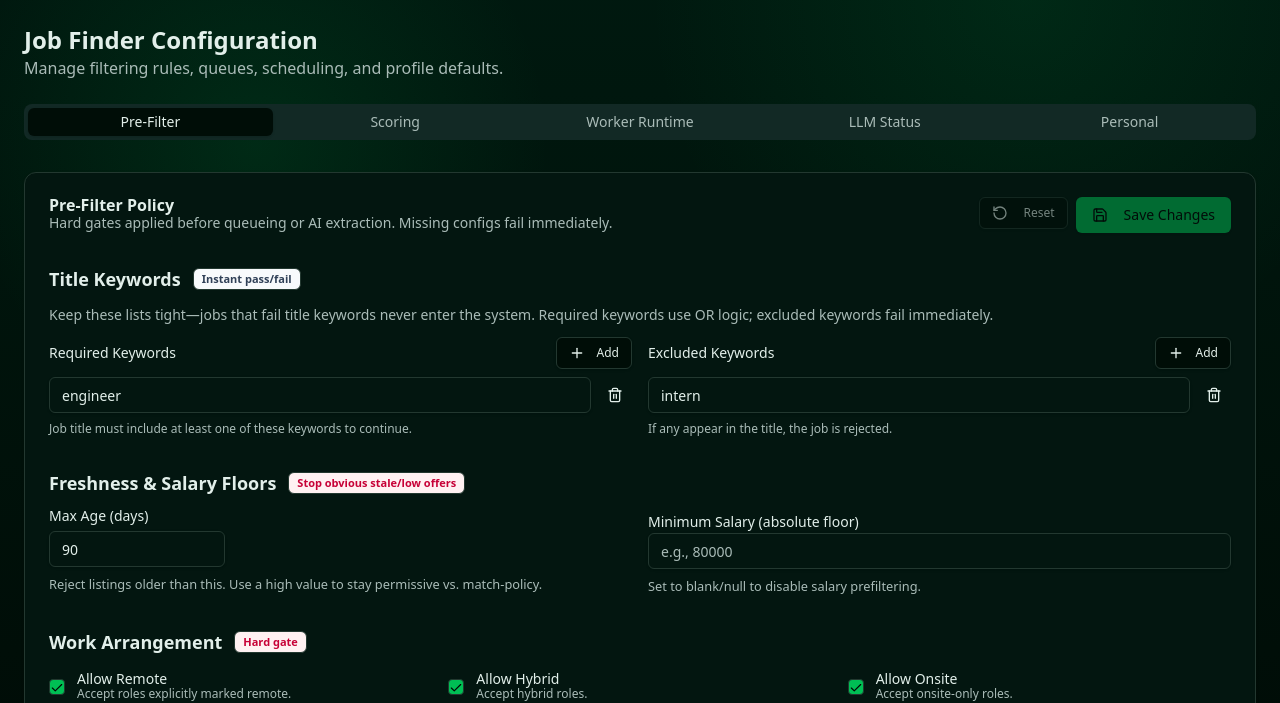
it: JobFinderConfigPage › renders missing skill penalty field
// Switch to Scoring tab so the field is rendered
Step 1. Click the tab "Scoring" → {"x": 395, "y": 122}, box [273, 108, 518, 136]
(page scrolled)
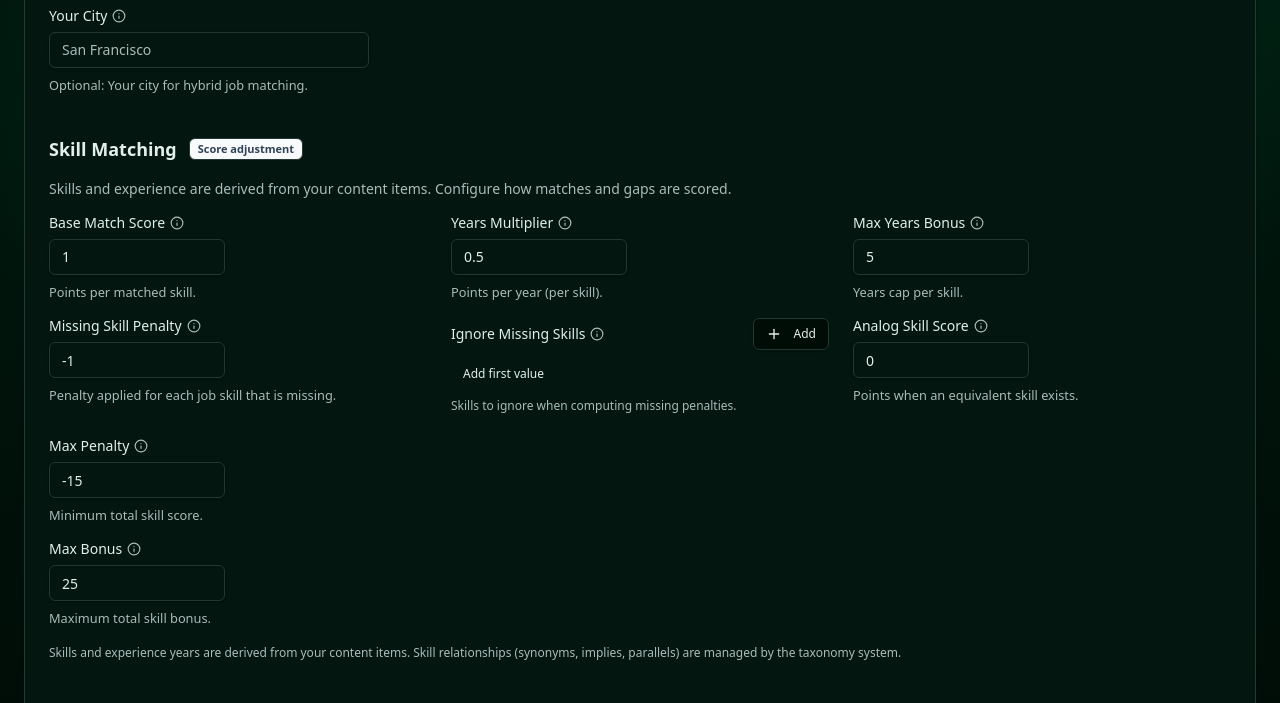
Expected: the number field labelled "Missing Skill Penalty" is shown, [49, 342, 225, 378]
